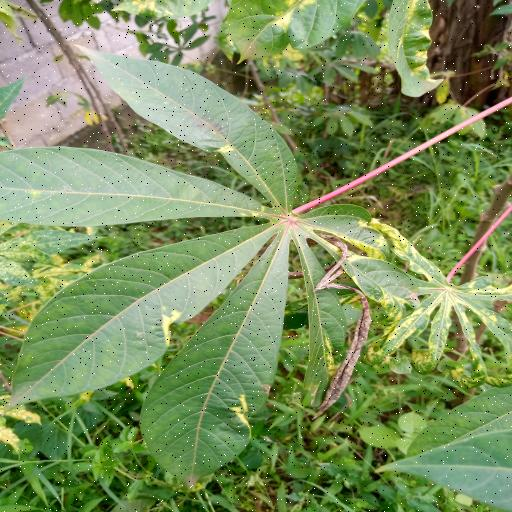Cassava_Mosaic: (5, 47, 412, 487), (368, 212, 512, 380)
